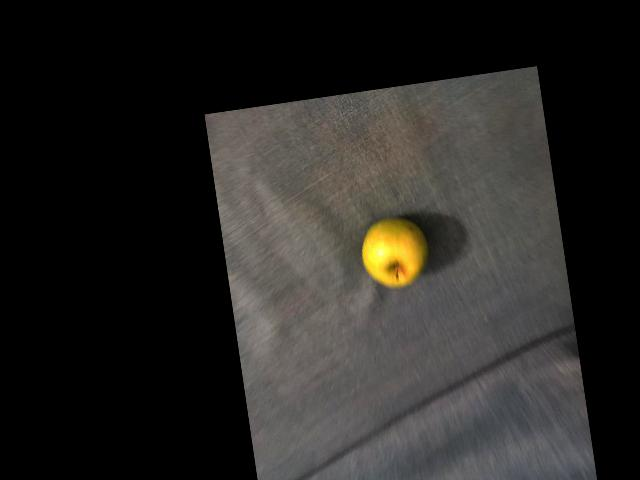apple: (370, 227, 427, 292)
